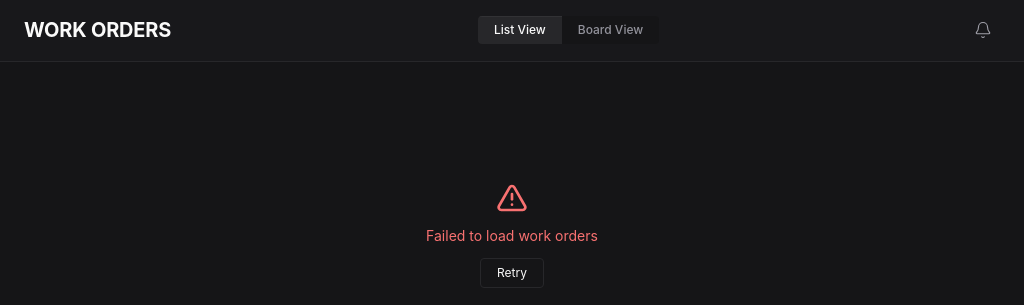
Scenario: WorkOrdersPage › shows an error panel with a Retry action when the API request fails, and Retry recovers
Expected: the text "Failed to load work orders" is shown, [426,226,598,246]
Click the button "Retry" at (512, 273), box [480,258,544,288]
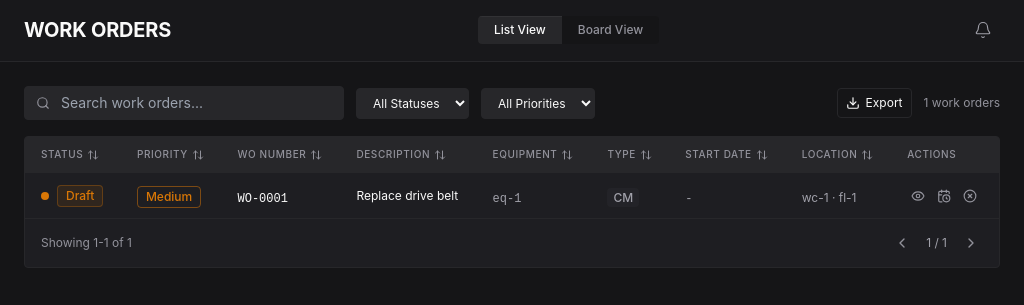
Expected: the text "WO-0001" is shown, [238,192,288,206]
